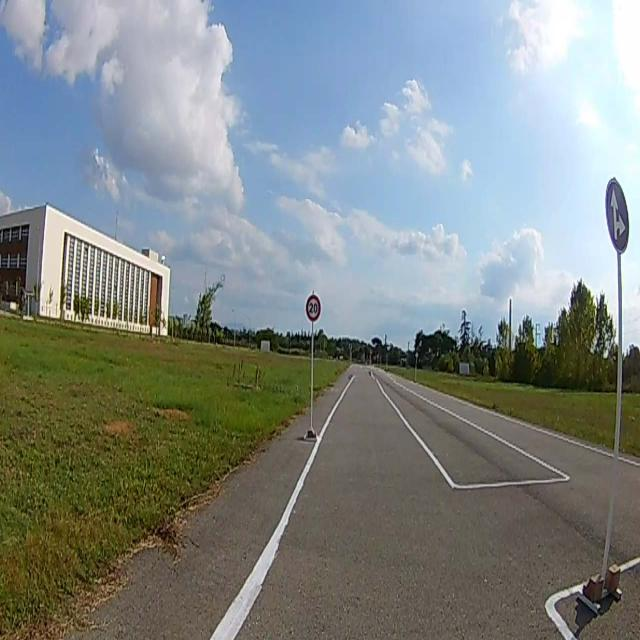20: (306, 294, 321, 320)
ilerisag: (605, 180, 629, 252)
